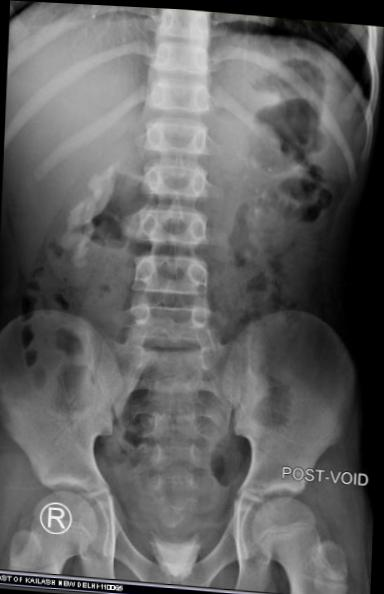vertebrae: (148, 103, 219, 155)
